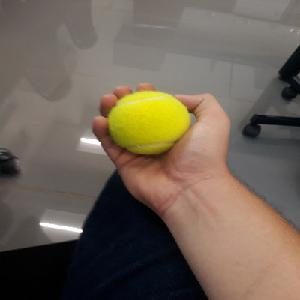Ball: (108, 91, 190, 155)
